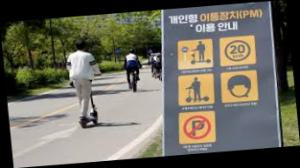nonhelmet: (63, 39, 102, 130)
